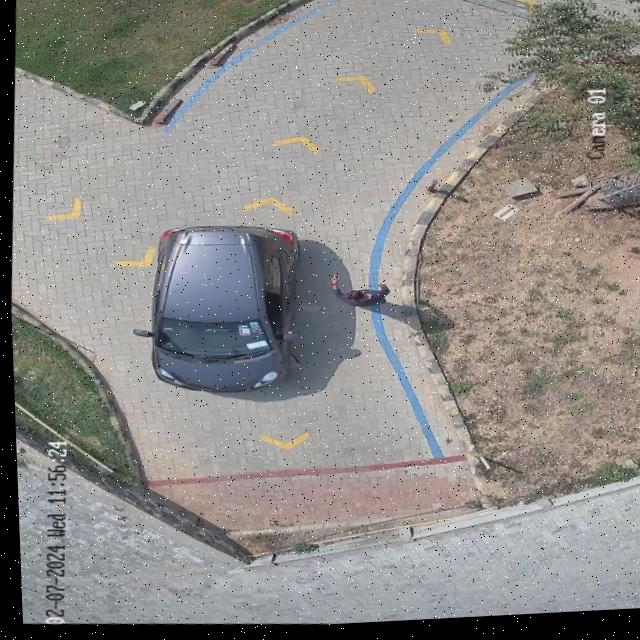car: (133, 227, 297, 394)
